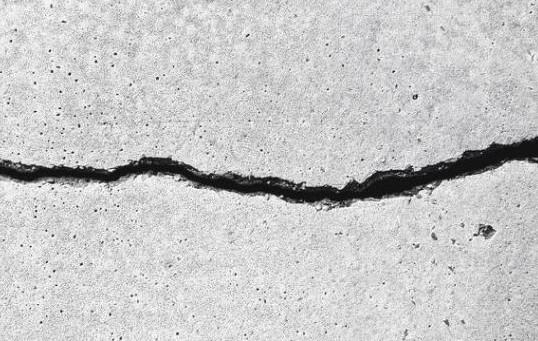Horizontal Settlement Crack: (1, 133, 536, 208)
